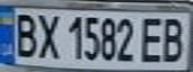1: (63, 12, 84, 61)
2: (115, 15, 139, 63)
5: (78, 12, 100, 61)
8: (100, 14, 121, 62)
B: (9, 9, 42, 60), (157, 14, 190, 63)
E: (136, 13, 166, 64)
X: (33, 10, 63, 61)
